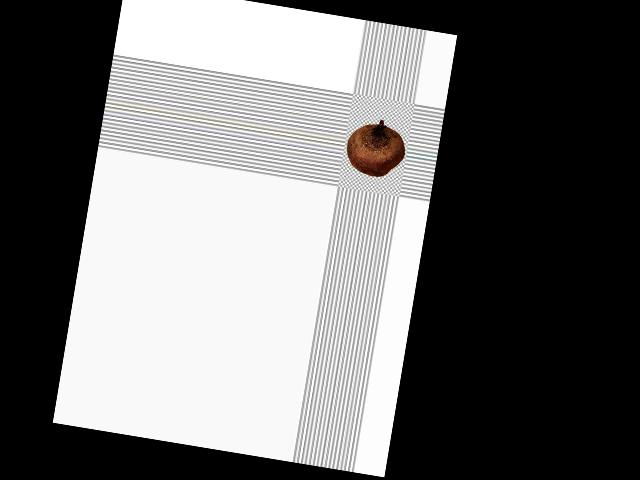beet: (343, 114, 409, 180)
